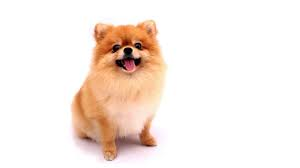dog: (78, 14, 182, 83)
